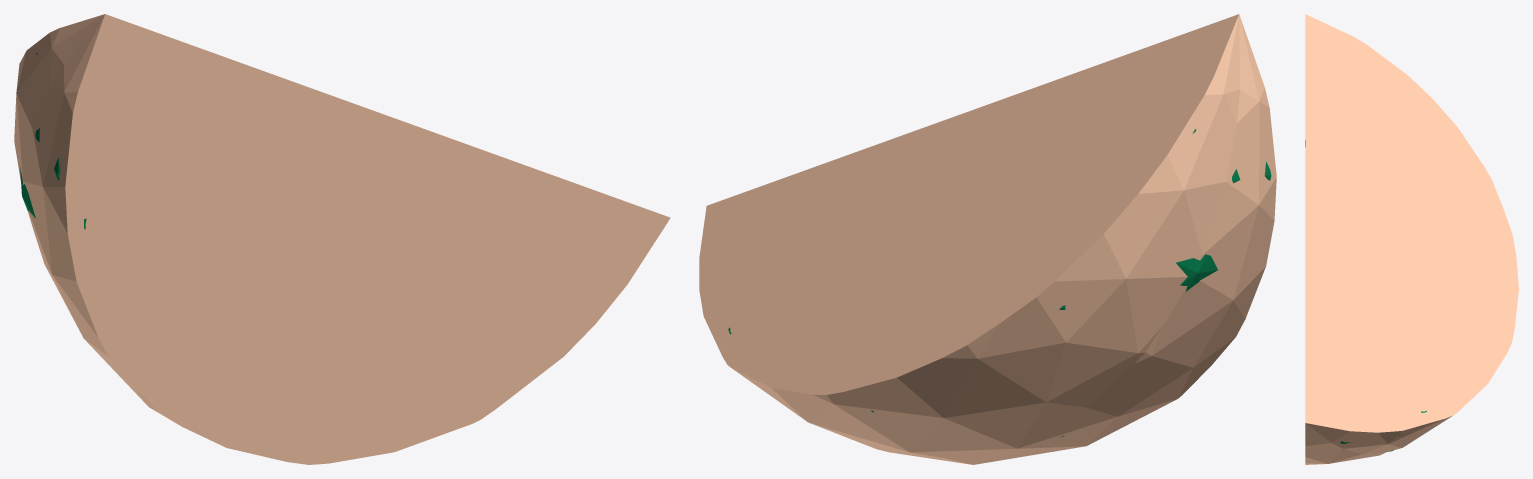
Rendered from wondermelon.fbx.
3 views of the same model, side by side, from view 1: azimuth 30°, elevation 25°; view 2: azimuth 150°, elevation 25°; view 3: azimuth 270°, elevation 25° (orthographic). The views are drawn at different scales.
Visible parts, largest first — view 1: Wondermelon - Physx; view 2: Wondermelon - Physx, Wondermelon - First; view 3: Wondermelon - Physx.
Part boxes in pixels (x1,y1,x2,y2): Wondermelon - Physx: (14, 14, 670, 464); Wondermelon - Physx: (699, 14, 1276, 464); Wondermelon - First: (728, 129, 1271, 436); Wondermelon - Physx: (1305, 14, 1518, 464).
Bounding box in the file's own units: 18.6 × 8.57 × 14.89.
